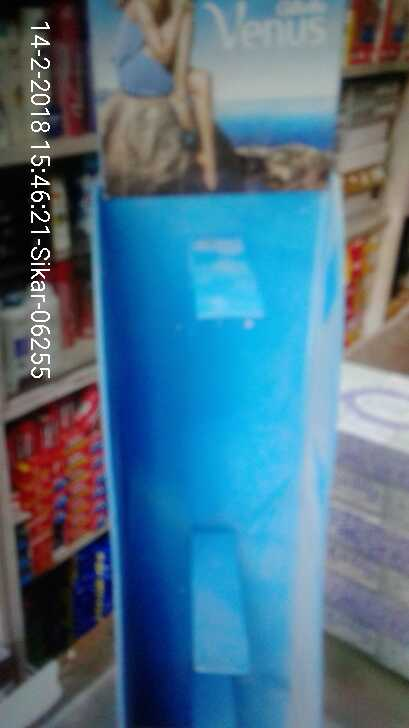reject: (20, 241, 200, 385)
